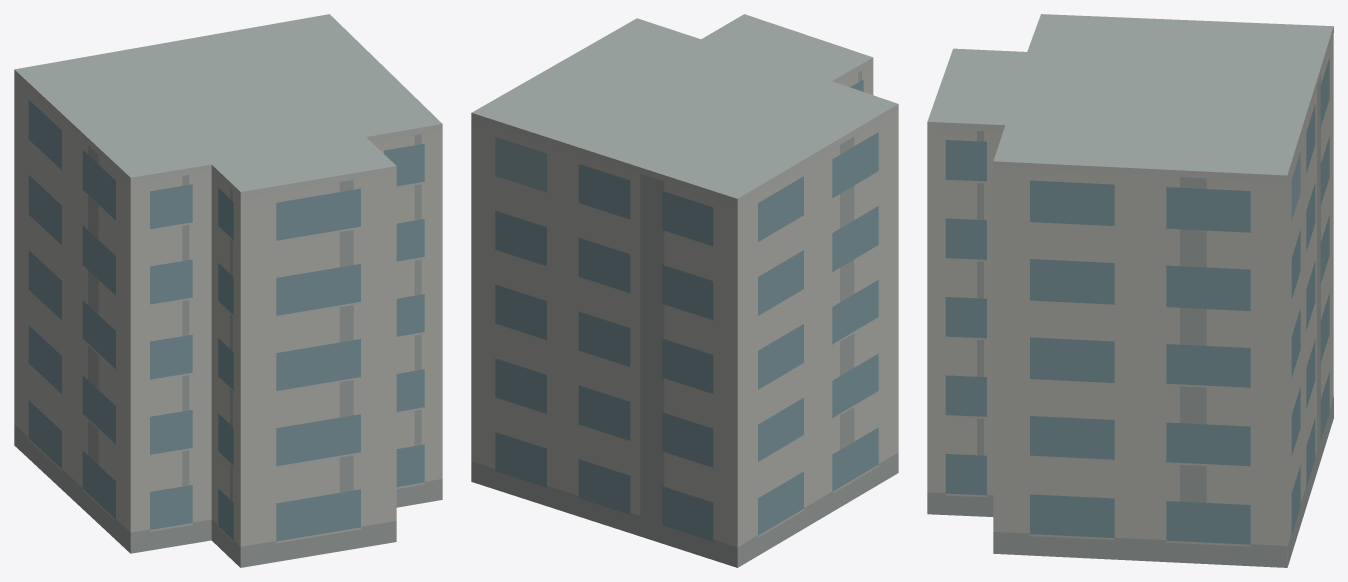
File: survey-upis-32760010.glb
3 views of the same model, side by side, from view 1: azimuth 30°, elevation 25°; view 2: azimuth 150°, elevation 25°; view 3: azimuth 270°, elevation 25° (orthographic). The views are drawn at different scales.
Visible parts, largest first — view 1: survey-upis-32760010.tmp; view 2: survey-upis-32760010.tmp; view 3: survey-upis-32760010.tmp.
Boxes of the visible parts, <box> form: survey-upis-32760010.tmp: <box>14,14,442,567</box>; survey-upis-32760010.tmp: <box>471,14,898,567</box>; survey-upis-32760010.tmp: <box>927,14,1333,567</box>.
Size of the model in its own units: 12.28 by 13.9 by 13.06.
